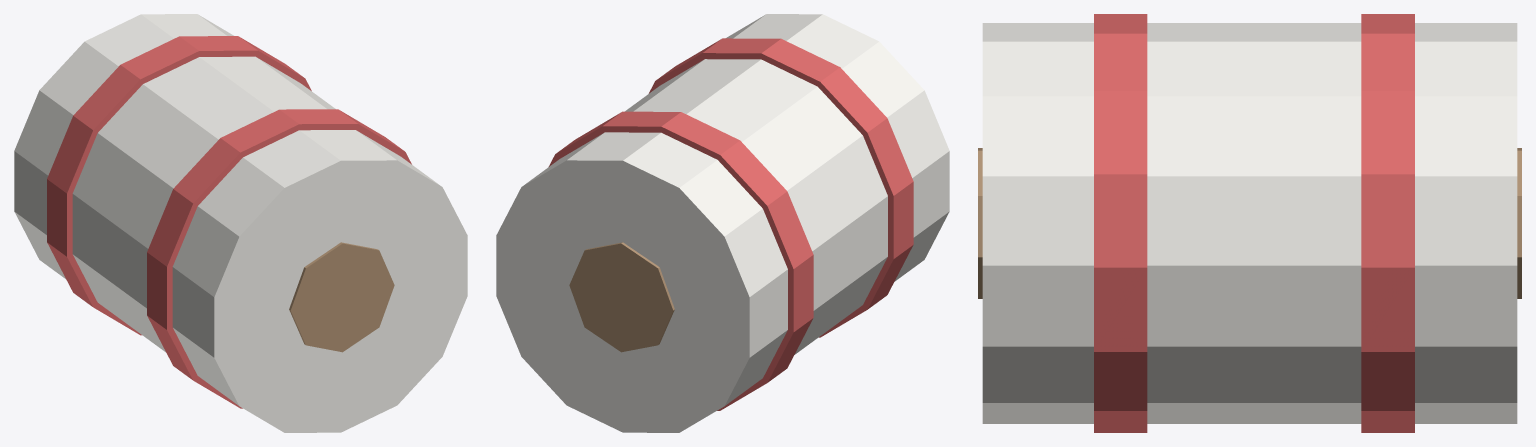
File: wrap_held.gltf
The picture shows the model from 3 angles, left to right: view 1: azimuth 30°, elevation 25°; view 2: azimuth 150°, elevation 25°; view 3: azimuth 270°, elevation 25°; orthographic projection. The views are drawn at different scales.
Visible parts, largest first — view 1: bees_wrap_held; view 2: bees_wrap_held; view 3: bees_wrap_held.
Part boxes in pixels (<box>): bees_wrap_held: <box>14,14,467,432</box>; bees_wrap_held: <box>496,14,949,432</box>; bees_wrap_held: <box>978,14,1521,432</box>.
Bounding box in the file's own units: 0.0916 × 0.094 × 0.122.
